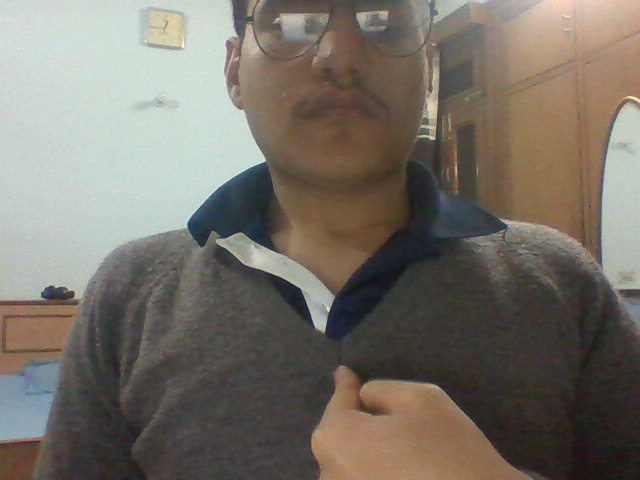I: (270, 344, 555, 480)
